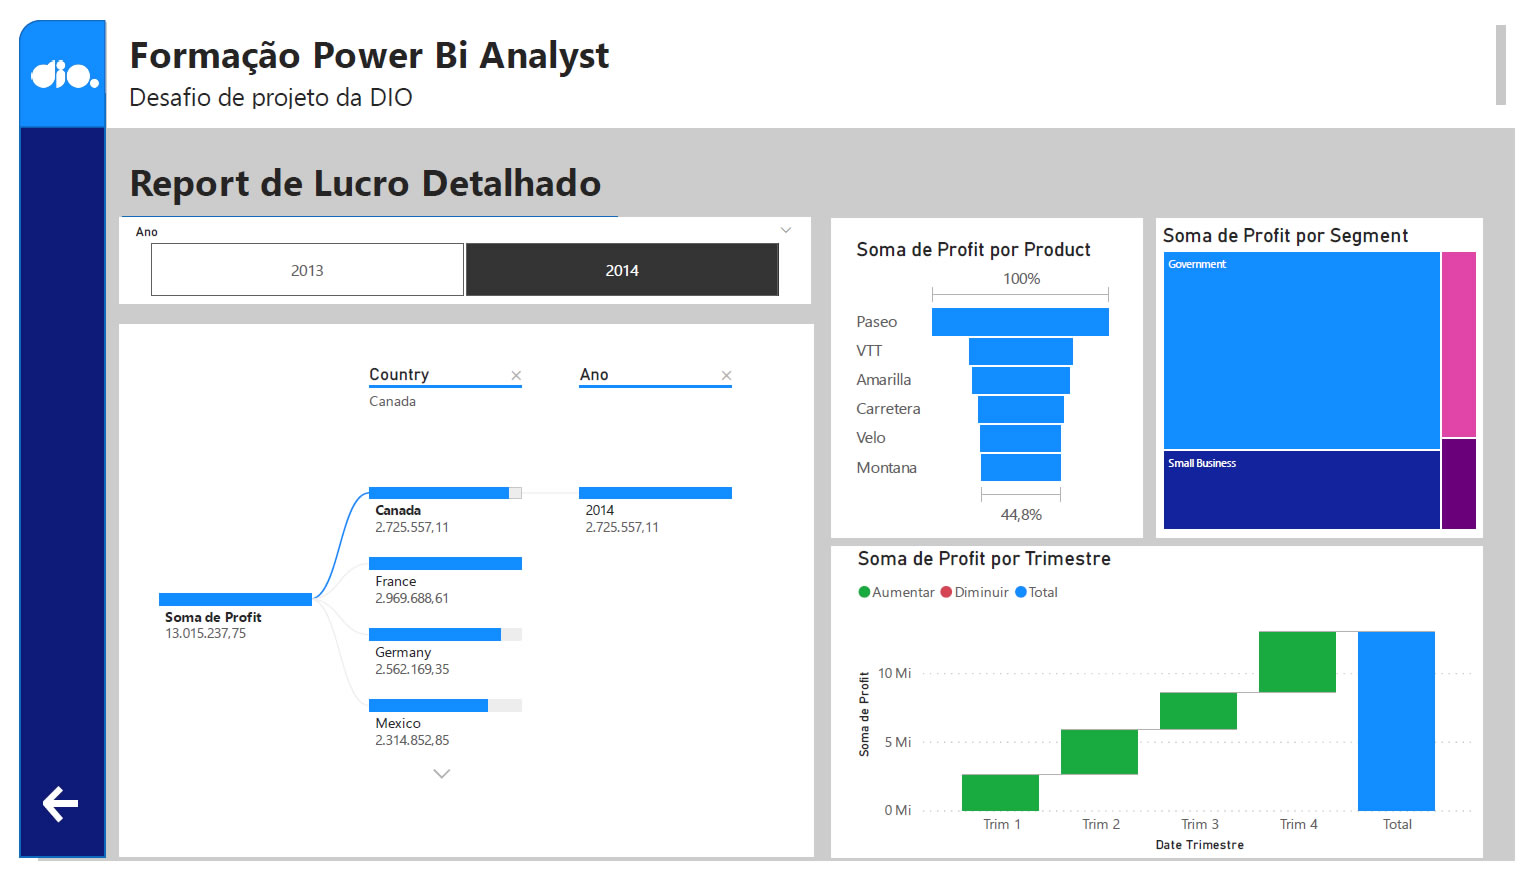

Layout of this report page (visuals, bound fields, positions):
{"tool":"powerbi","page":{"name":"Página 2","canvas":[1280,720],"ordinal":1},"visuals":[{"type":"shape","box":[17.3,2,1262.7,717.6],"z":0},{"type":"shape","box":[0,62.7,74.1,654.3],"z":0,"group":"g1"},{"type":"textbox","box":[89.1,109.7,481.8,59.1],"z":0,"group":"g3"},{"type":"group","id":"g1","title":"Grupo 1","box":[0,0,679.6,717],"z":1000},{"type":"shape","box":[0,0,74.1,92.1],"z":1000,"group":"g1"},{"type":"shape","box":[88.9,149.6,422.7,37.9],"z":1000,"group":"g3"},{"type":"group","id":"g2","title":"Grupo 3","box":[76.1,0,1203.9,92.2],"z":2000},{"type":"shape","box":[76.1,0,1203.9,92.2],"z":2000,"group":"g2"},{"type":"textbox","box":[89.2,0,1188.7,81.1],"z":3000,"group":"g2"},{"type":"actionButton","box":[16.7,651.5,53,39.4],"z":3000},{"type":"group","id":"g3","title":"Grupo 4","box":[88.9,109.7,482,77.7],"z":4000},{"type":"shape","box":[695.7,451.1,557.4,266],"z":5000},{"type":"shape","box":[695.7,170.2,266,272.3],"z":6000},{"type":"shape","box":[973.6,169.8,279.2,273.6],"z":7000},{"type":"treemap","fields":{"Values":["Sum(financials.Profit)"],"Group":["financials.Segment"]},"box":[973.6,173.6,279.2,267.9],"z":8000},{"type":"waterfallChart","fields":{"Y":["Sum(financials.Profit)"],"Category":["financials.Date.Variation.Hierarquia de datas.Trimestre"]},"box":[712.8,451.1,540.4,266],"z":9000},{"type":"decompositionTreeVisual","fields":{"Analyze":["Sum(financials.Profit)"],"ExplainBy":["financials.Country","financials.Date.Variation.Hierarquia de datas.Ano"]},"box":[89.8,277.6,589.8,414.3],"z":10000},{"type":"image","box":[6.4,14.3,66.8,65.2],"z":11000},{"type":"funnel","fields":{"Category":["financials.Product"],"Y":["Sum(financials.Profit)"]},"box":[712.2,185.7,230.6,251],"z":12000},{"type":"shape","box":[85.7,169.4,591.8,73.5],"z":13000},{"type":"slicer","fields":{"Values":["financials.Date.Variation.Hierarquia de datas.Ano"]},"box":[86.8,169.8,586.8,73.6],"z":14000},{"type":"shape","box":[85.7,261.2,593.9,455.1],"z":32003,"group":"g1"}]}

Visuals, with their boxes on the page's 1280x720 design canvas (x1, y1, x2, y2). These are canvas units, not pixel positions in the 1526x882 screenshot, which may show the page scaled, cropped or inside an application window:
shape: (17, 2, 1280, 720)
shape: (0, 63, 74, 717)
textbox: (89, 110, 571, 169)
"Grupo 1" group: (0, 0, 680, 717)
shape: (0, 0, 74, 92)
shape: (89, 150, 512, 188)
"Grupo 3" group: (76, 0, 1280, 92)
shape: (76, 0, 1280, 92)
textbox: (89, 0, 1278, 81)
actionButton: (17, 652, 70, 691)
"Grupo 4" group: (89, 110, 571, 187)
shape: (696, 451, 1253, 717)
shape: (696, 170, 962, 442)
shape: (974, 170, 1253, 443)
treemap - Sum(financials.Profit) x financials.Segment: (974, 174, 1253, 442)
waterfallChart - Sum(financials.Profit) x financials.Date.Variation.Hierarquia de datas.Trimestre: (713, 451, 1253, 717)
decompositionTreeVisual - Sum(financials.Profit) x financials.Country: (90, 278, 680, 692)
image: (6, 14, 73, 80)
funnel - financials.Product x Sum(financials.Profit): (712, 186, 943, 437)
shape: (86, 169, 678, 243)
slicer - financials.Date.Variation.Hierarquia de datas.Ano: (87, 170, 674, 243)
shape: (86, 261, 680, 716)
